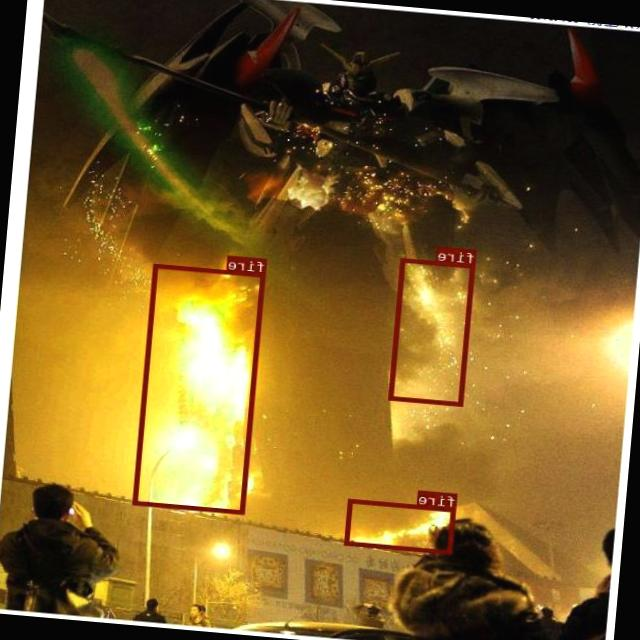fire: (133, 262, 266, 514), (389, 257, 476, 405), (345, 498, 457, 553)
